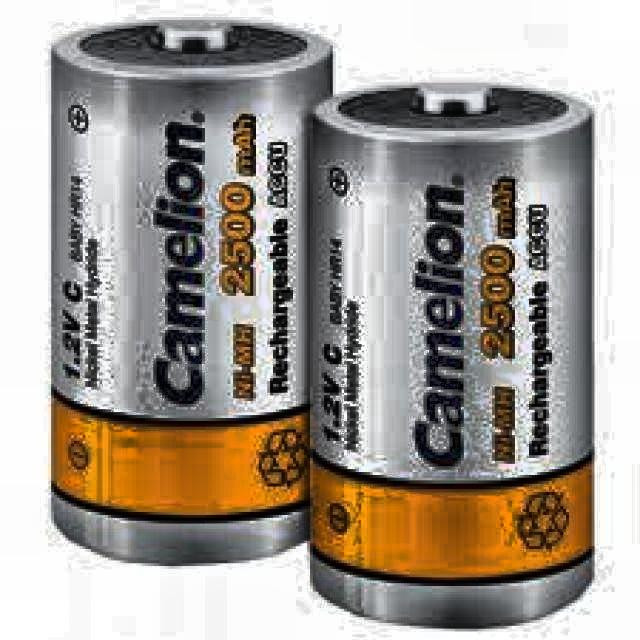Non-Valuable Waste - Batteries: (310, 81, 595, 631), (51, 16, 333, 567)
